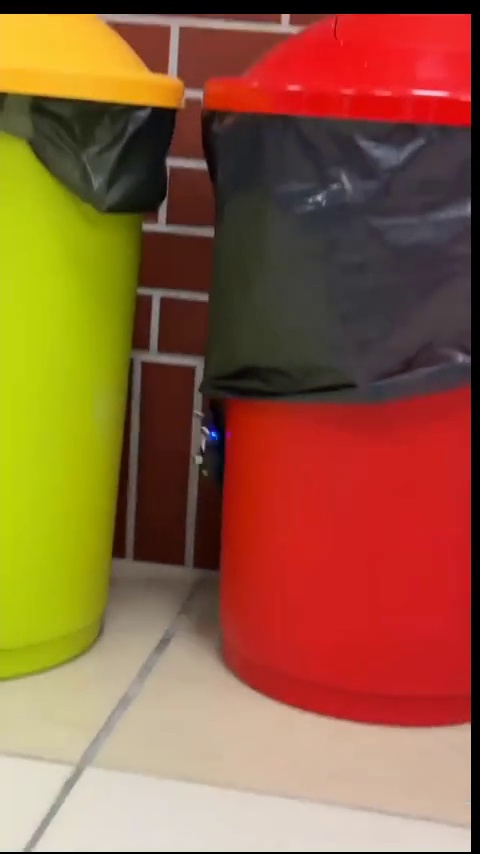drone: (190, 408, 221, 477)
